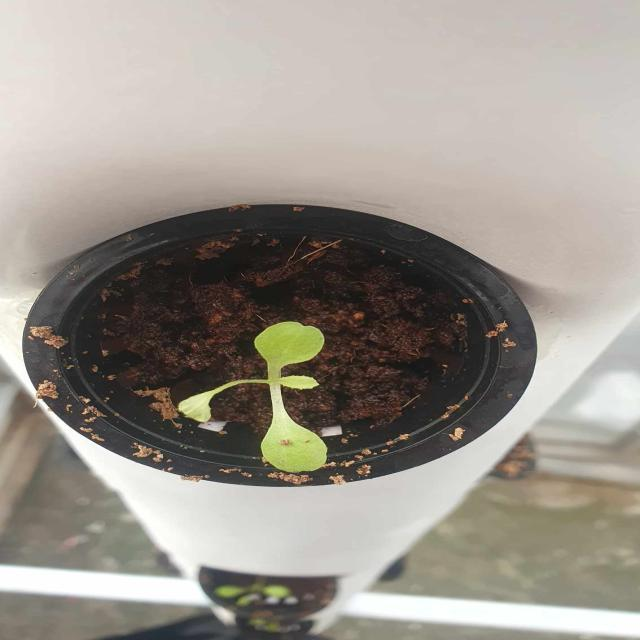Lettuce-Not-Ready-to-Harvest: (173, 312, 332, 473)
